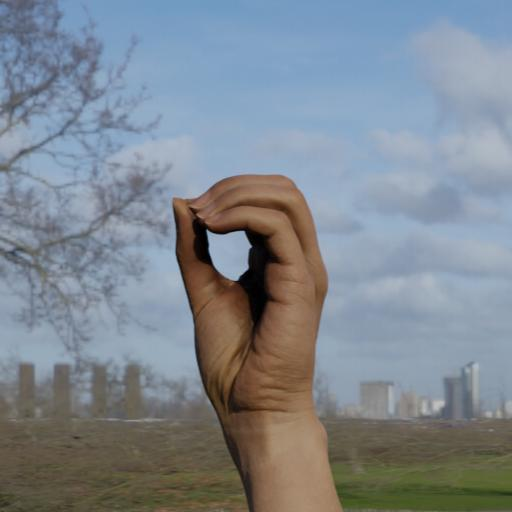O: (139, 152, 410, 512)
